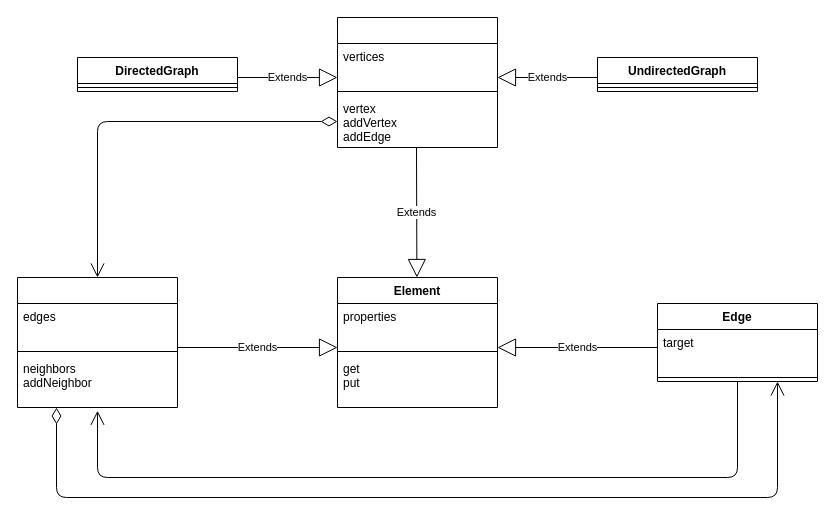
This 835x532 diagram has some shape labels left out. The shapes that lost their labels are listed below. From the top down, each one's box as (x1, y1, x2, y2) in pixels, then its label:
(336, 16, 498, 148): Graph
(16, 276, 178, 408): Vertex
